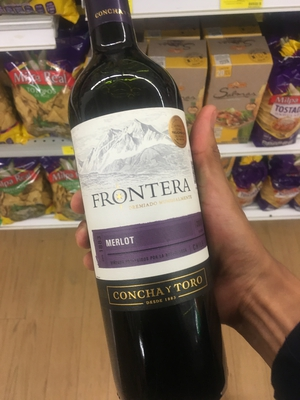frontera merlot: (53, 10, 240, 400)
